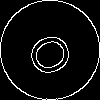O: (25, 25, 83, 80)
